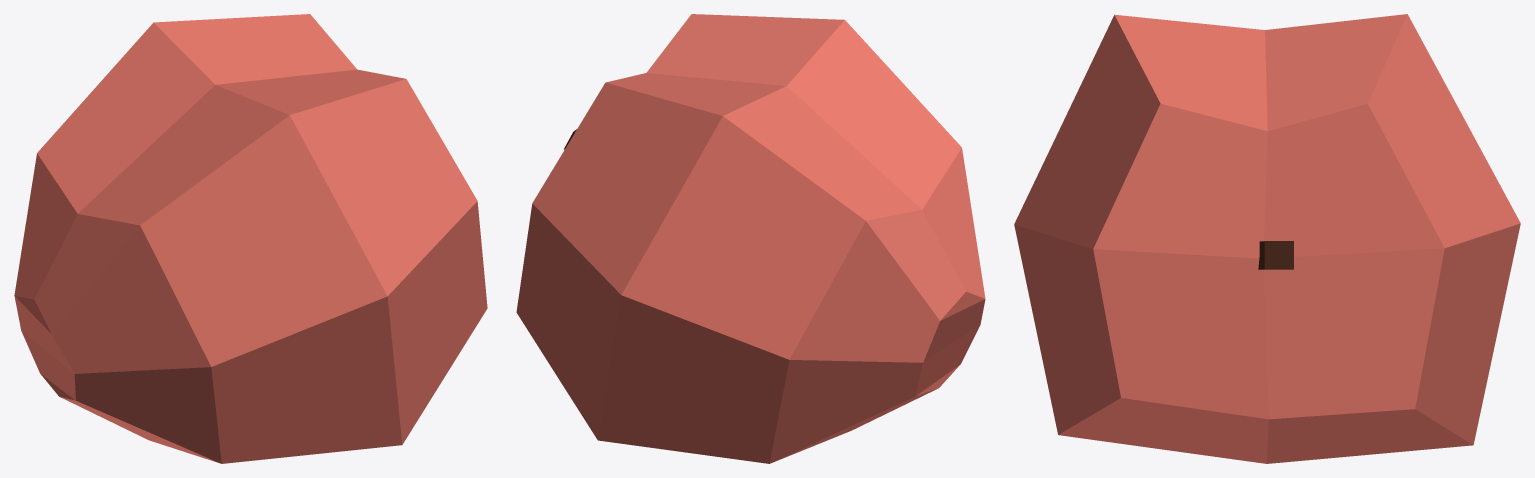
Rendered from peach.fbx.
3 renders of one model, left to right at view 1: azimuth 30°, elevation 25°; view 2: azimuth 150°, elevation 25°; view 3: azimuth 270°, elevation 25°, orthographic. The views are drawn at different scales.
Visible parts, largest first — view 1: peach; view 2: peach; view 3: peach.
Boxes of the visible parts, box(x1,y1,x2,y2) form: peach: box(14, 14, 487, 463); peach: box(516, 14, 985, 463); peach: box(1014, 14, 1520, 463).
Size of the model in its own units: 6.54 by 5.54 by 6.38.
1 material, 1 textured.
